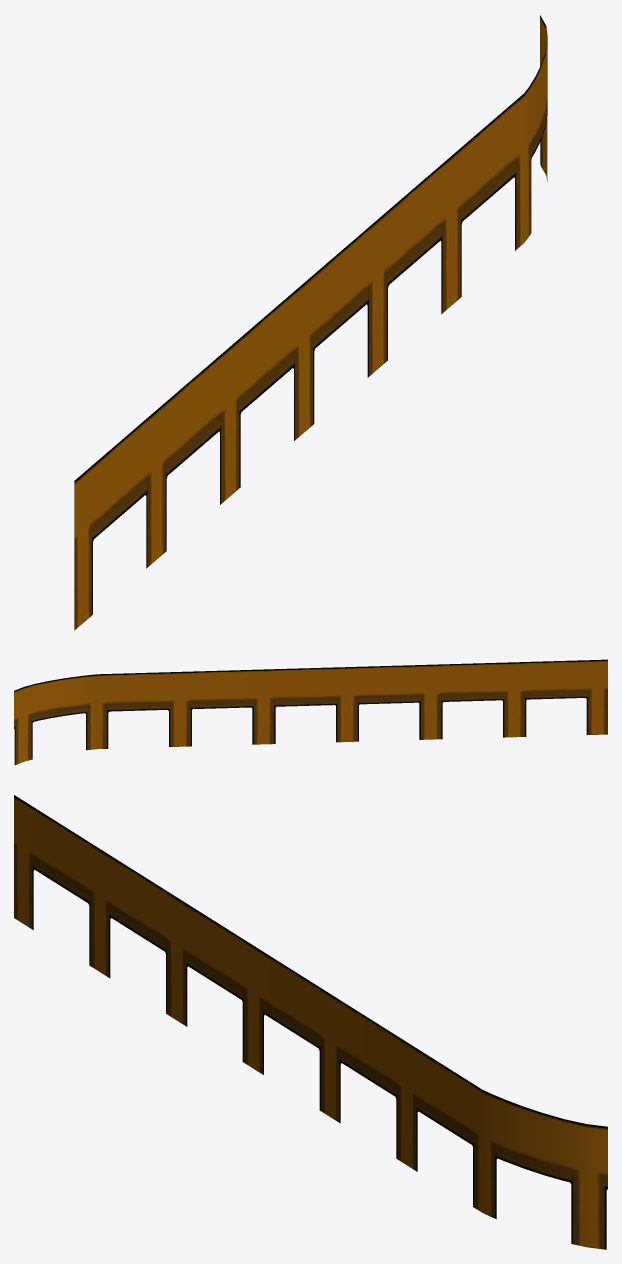
The model's file is FenceGoal_Viewer.FBX.
3 views of the same model, one above another, from view 1: azimuth 30°, elevation 25°; view 2: azimuth 150°, elevation 25°; view 3: azimuth 270°, elevation 25° (orthographic). The views are drawn at different scales.
Visible parts, largest first — view 1: Line019; view 2: Line019; view 3: Line019.
Boxes of the visible parts, x1,y1,x2,y2 form: Line019: (74, 15, 547, 630); Line019: (14, 659, 607, 765); Line019: (14, 795, 607, 1249).
Bounding box in the file's own units: 3.39 × 0.5906 × 2.56.
Materials: 1 (1 with a texture image).
